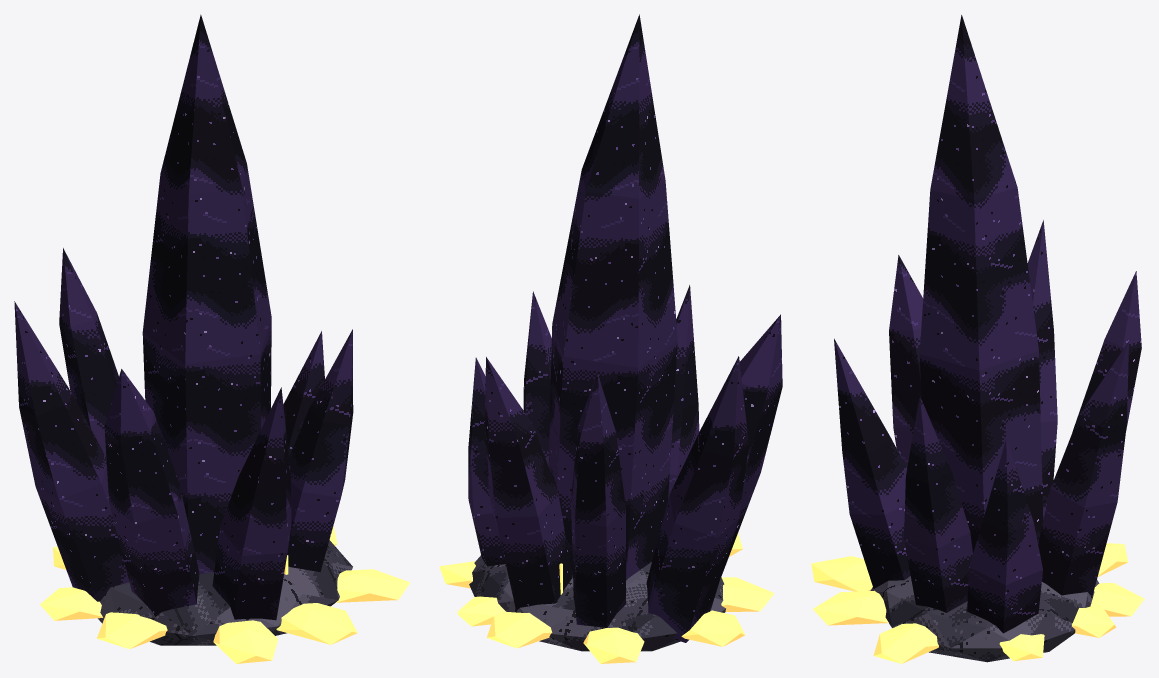
File: crater_spire.glb
The picture shows the model from 3 angles, left to right: view 1: azimuth 30°, elevation 25°; view 2: azimuth 150°, elevation 25°; view 3: azimuth 270°, elevation 25°; orthographic projection. The views are drawn at different scales.
Visible parts, largest first — view 1: Spires, Glow, Foot; view 2: Spires, Glow, Foot; view 3: Spires, Glow, Foot.
Part boxes in pixels (left/top/right/bottom): Spires: left=14, top=14, right=353, bottom=631; Glow: left=40, top=526, right=410, bottom=663; Foot: left=98, top=540, right=352, bottom=645; Spires: left=468, top=14, right=782, bottom=642; Glow: left=439, top=533, right=774, bottom=663; Foot: left=469, top=555, right=725, bottom=651; Spires: left=834, top=15, right=1141, bottom=633; Glow: left=811, top=543, right=1144, bottom=663; Foot: left=870, top=576, right=1099, bottom=662.
Size of the model in its own units: 5.04 by 9.58 by 4.81.
Materials: 11 (2 with a texture image).
